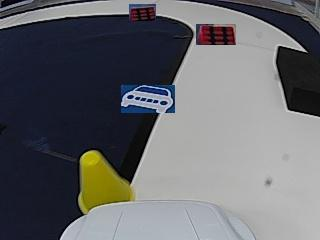block: (276, 46, 319, 116)
cone: (77, 151, 135, 201)
